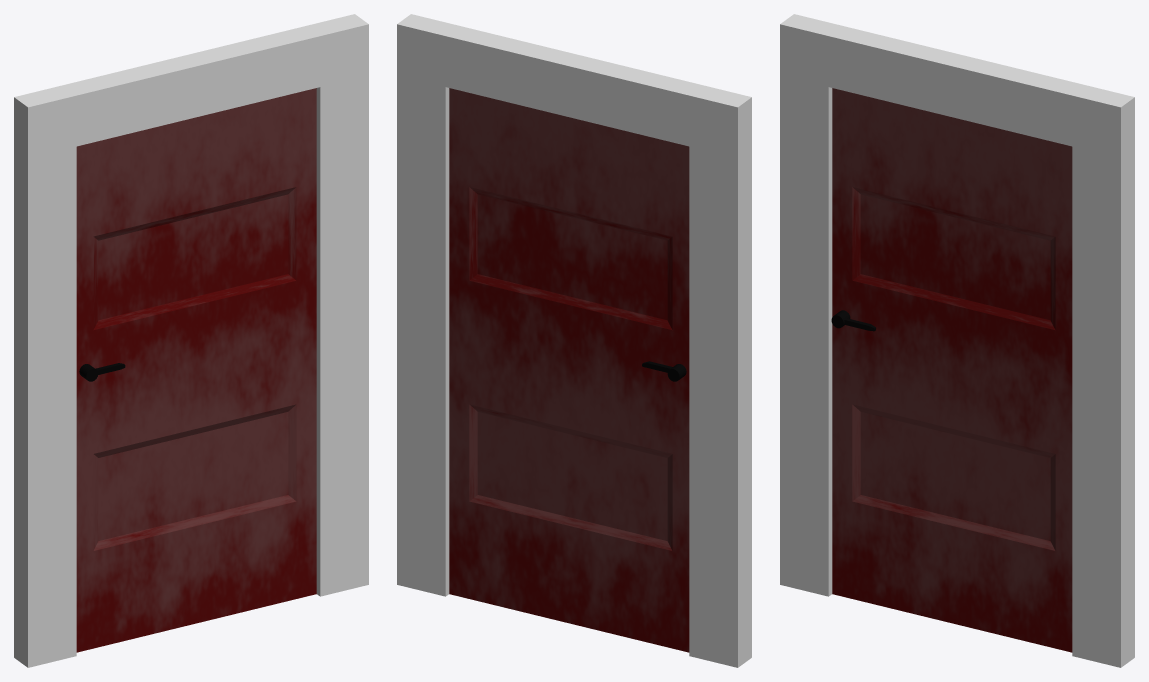
Rendered from Door.glb.
3 views of the same model, side by side, from view 1: azimuth 30°, elevation 25°; view 2: azimuth 150°, elevation 25°; view 3: azimuth 330°, elevation 25° (orthographic).
Parts seen in each view (by area): view 1: Door, Door Frame; view 2: Door, Door Frame; view 3: Door, Door Frame.
Part boxes in pixels (bbox=[...]): Door: bbox=[76, 88, 316, 652]; Door Frame: bbox=[14, 14, 368, 667]; Door: bbox=[449, 88, 689, 652]; Door Frame: bbox=[397, 14, 751, 667]; Door: bbox=[832, 88, 1072, 652]; Door Frame: bbox=[780, 14, 1134, 667].
Size of the model in its own units: 1.4 by 2.2 by 0.148.
Materials: 3 (1 with a texture image).
